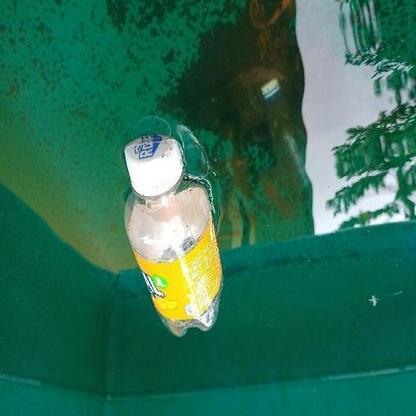plastic bottle: (124, 135, 224, 337)
